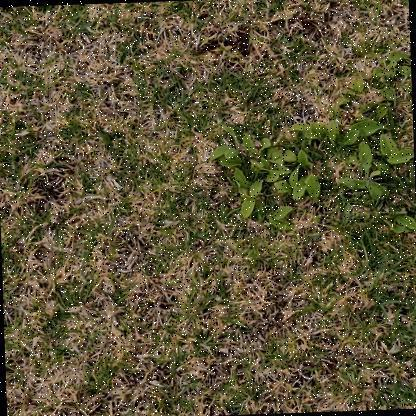Weeds: (207, 50, 415, 243)
